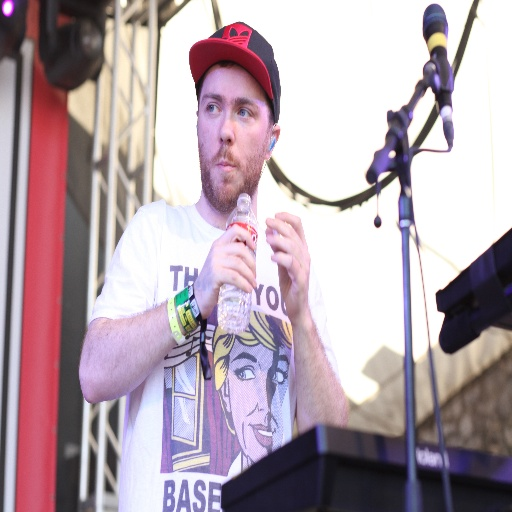hand: (194, 221, 257, 320), (265, 209, 310, 320)
